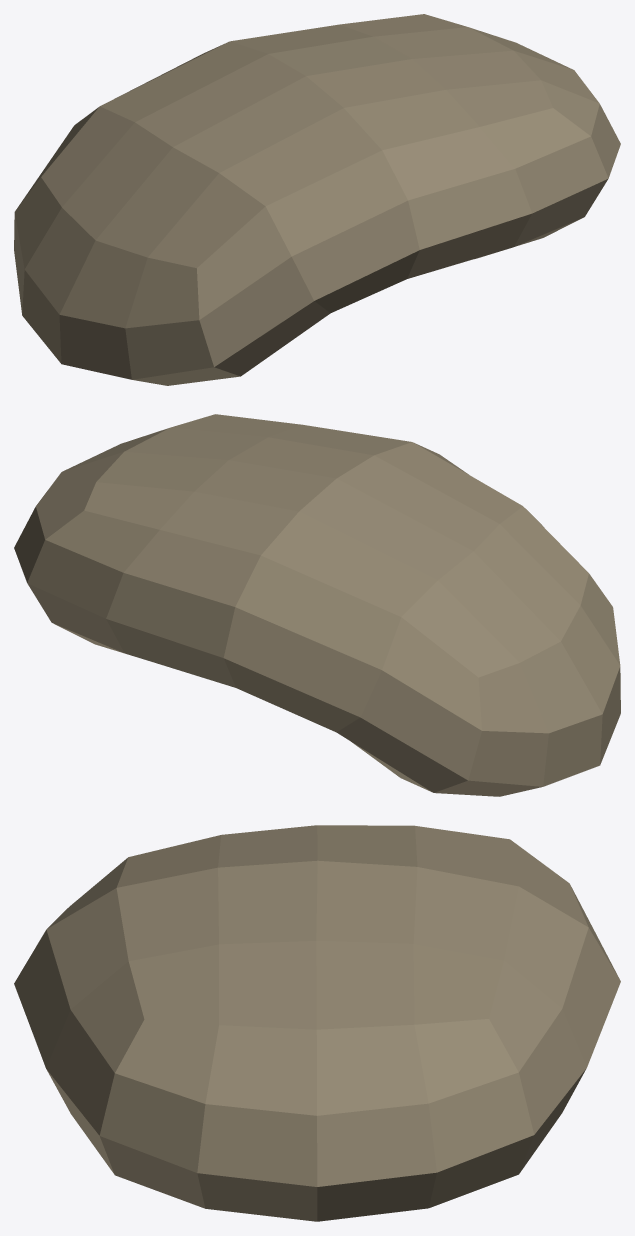
File: SandBag4.fbx
The picture shows the model from 3 angles, top to bottom: view 1: azimuth 30°, elevation 25°; view 2: azimuth 150°, elevation 25°; view 3: azimuth 270°, elevation 25°; orthographic projection. The views are drawn at different scales.
Visible parts, largest first — view 1: Plane; view 2: Plane; view 3: Plane.
Part boxes in pixels (<box>): Plane: <box>14,14,620,385</box>; Plane: <box>14,414,620,796</box>; Plane: <box>14,825,620,1221</box>.
Bounding box in the file's own units: 1.82 × 0.7842 × 1.32.
